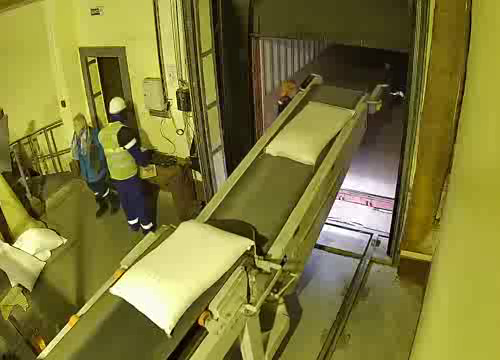bag: (96, 216, 258, 340), (263, 97, 360, 169)
